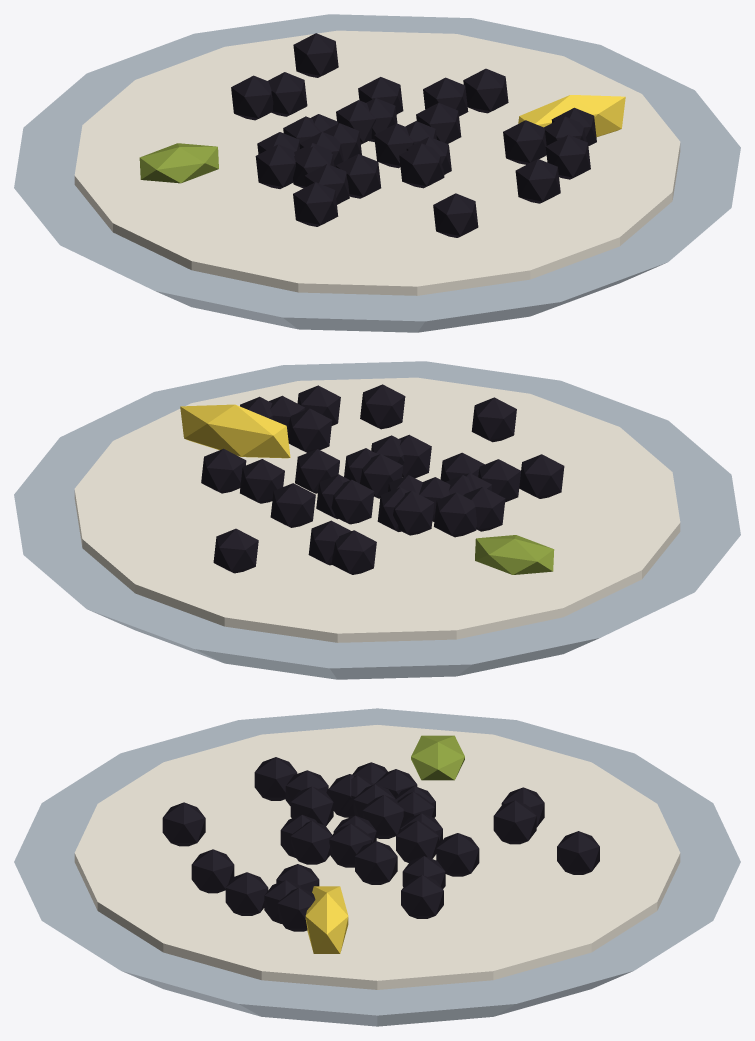
Rendered from caviar_plate.glb.
3 renders of one model, top to bottom at view 1: azimuth 30°, elevation 25°; view 2: azimuth 150°, elevation 25°; view 3: azimuth 270°, elevation 25°, orthographic.
Visible parts, largest first — view 1: caviar_plate; view 2: caviar_plate; view 3: caviar_plate.
Boxes of the visible parts, bbox=[...] form: caviar_plate: bbox=[14, 14, 740, 332]; caviar_plate: bbox=[14, 361, 740, 679]; caviar_plate: bbox=[14, 708, 740, 1026].
Size of the model in its own units: 1.44 by 0.19 by 1.44.
